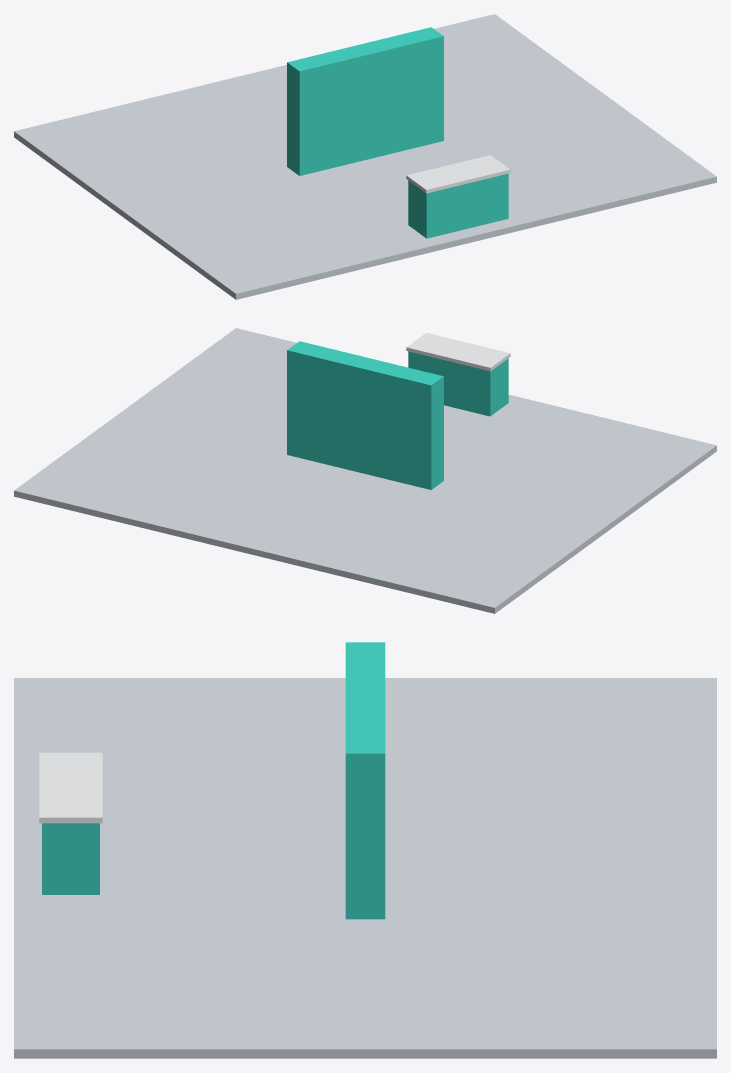
3 renders of one model, top to bottom at view 1: azimuth 30°, elevation 25°; view 2: azimuth 150°, elevation 25°; view 3: azimuth 270°, elevation 25°, orthographic. The views are drawn at different scales.
Visible parts, largest first — view 1: Exhibition Booth Concept; view 2: Exhibition Booth Concept; view 3: Exhibition Booth Concept.
Boxes of the visible parts, box(x1,y1,x2,y2) form: Exhibition Booth Concept: box(14, 14, 716, 299); Exhibition Booth Concept: box(14, 328, 716, 613); Exhibition Booth Concept: box(14, 642, 716, 1058).
Size of the model in its own units: 10 by 2.2 by 8.
